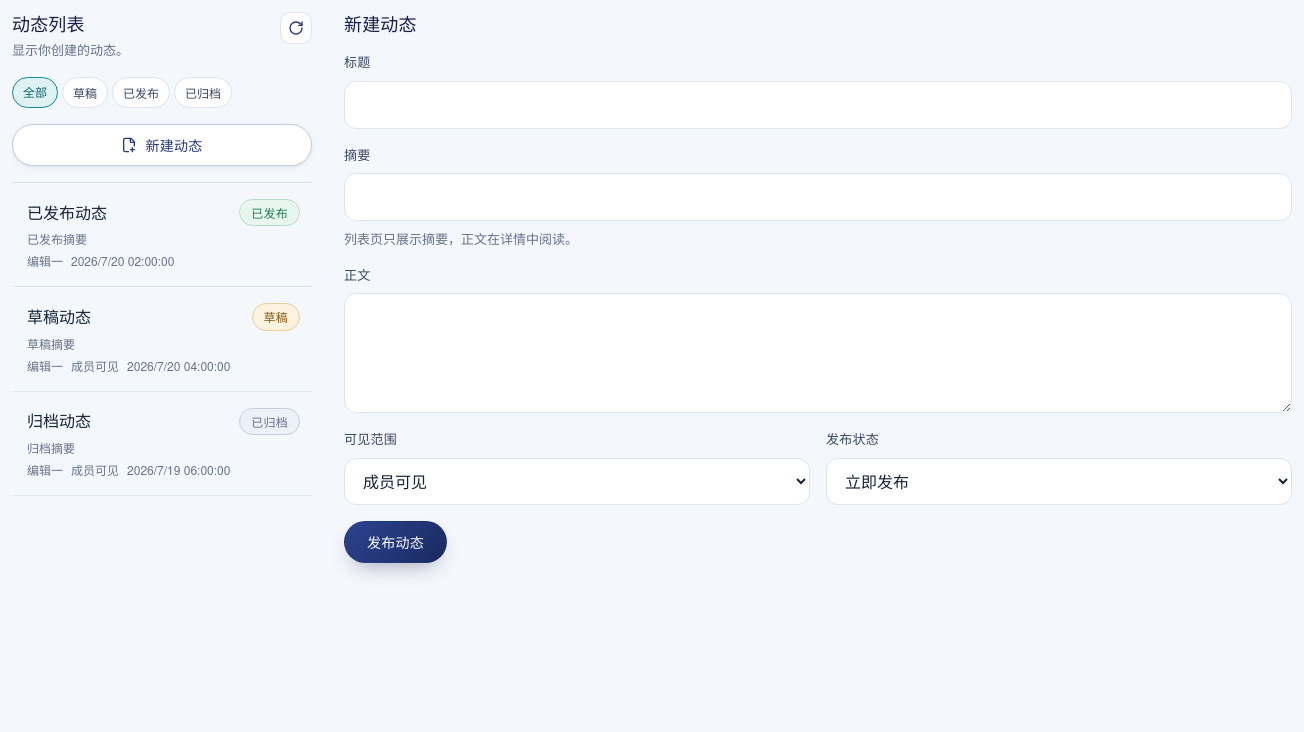
it: AdminNews manage workspace › cancels an in-flight detail when the filter changes without leaving the list busy
What coordinates should you click on to do the following:
click the button with class "record-item" that starts with "已发布动态"
I would click on:
 (67, 213)
Its box is [12, 183, 312, 288].
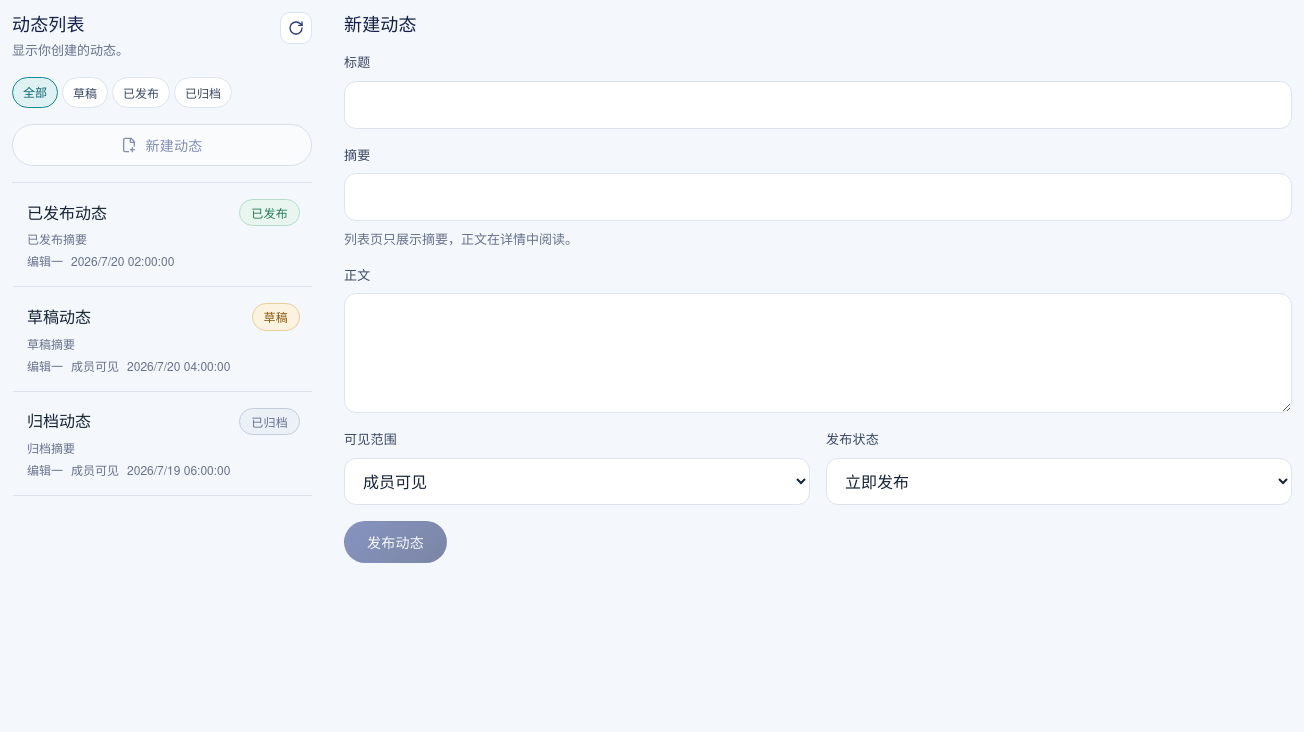
What coordinates should you click on to do the following:
click the button with class "status-tab" showing "草稿"
I would click on:
 (85, 93)
Its box is [62, 77, 108, 108].
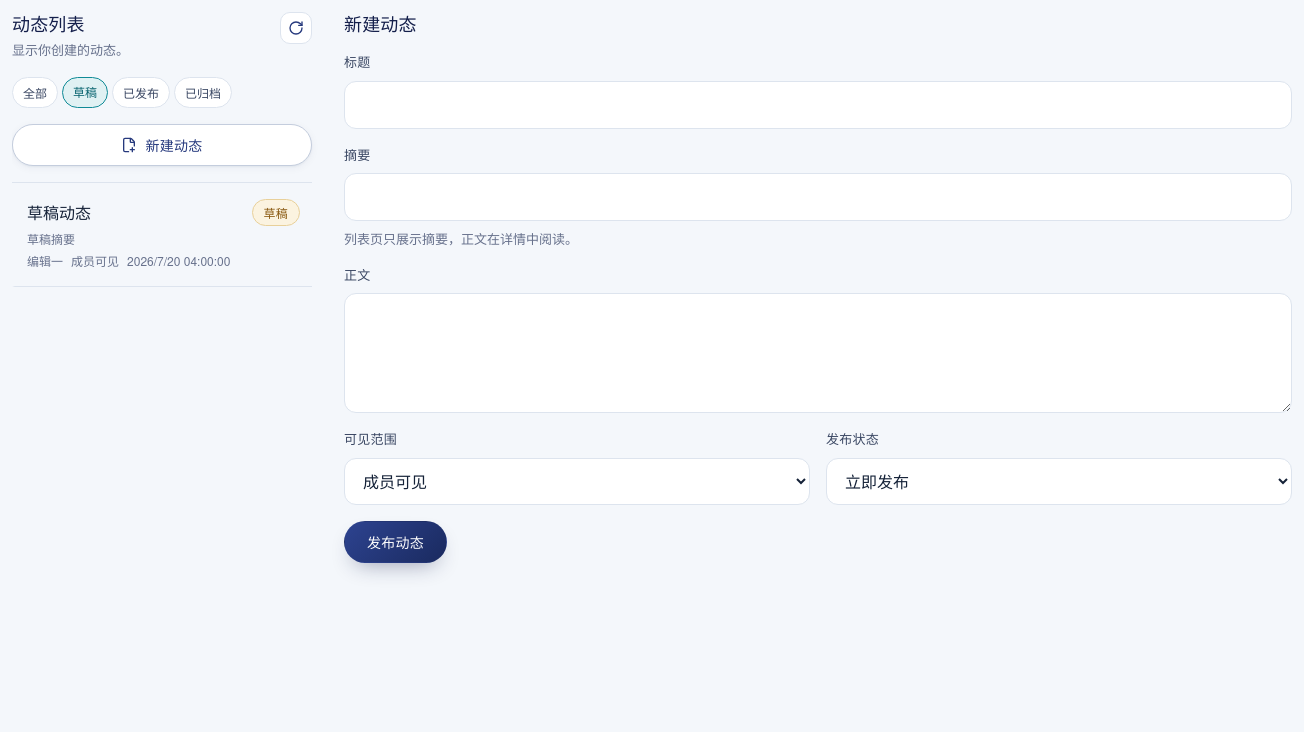
Check: the field with id "news-title" is empty, box [344, 81, 1292, 129]
Check: the number of buttons with class "record-item" is 1, box [12, 183, 312, 288]
Check: the button with class "record-item" is enabled, box [12, 183, 312, 288]
